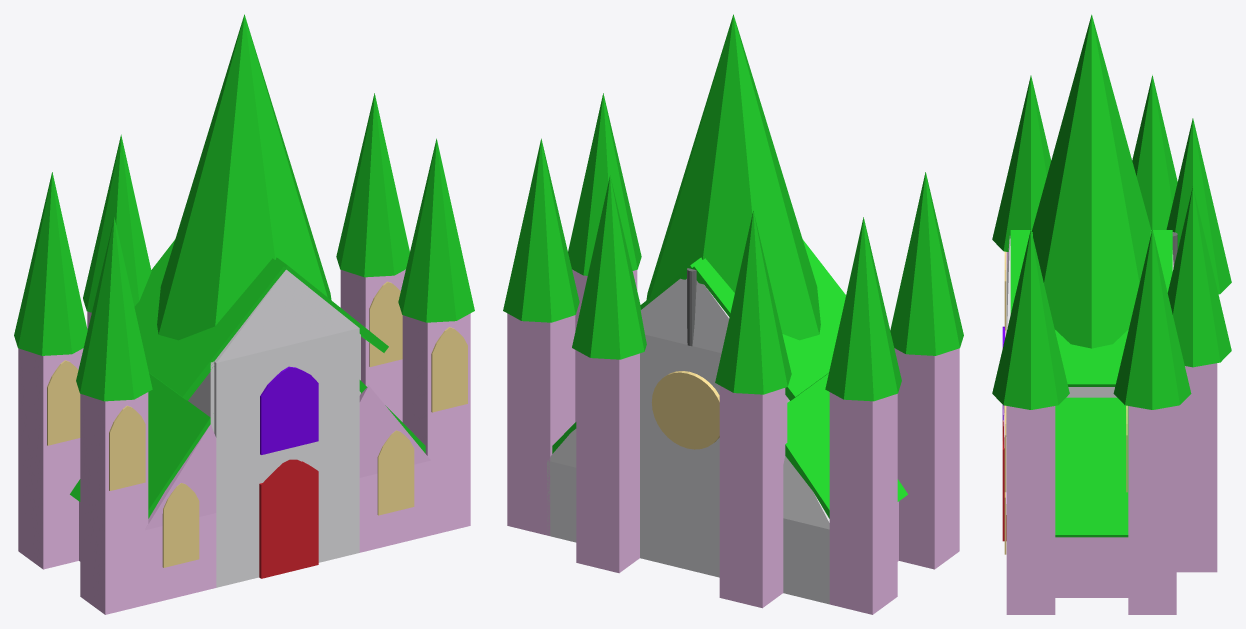
The model's file is Church_Gothic.fbx.
The picture shows the model from 3 angles, left to right: view 1: azimuth 30°, elevation 25°; view 2: azimuth 150°, elevation 25°; view 3: azimuth 270°, elevation 25°; orthographic projection. The views are drawn at different scales.
Visible parts, largest first — view 1: Church_Gothic; view 2: Church_Gothic; view 3: Church_Gothic.
Boxes of the visible parts, x1,y1,x2,y2 form: Church_Gothic: (14, 14, 474, 614); Church_Gothic: (503, 14, 963, 614); Church_Gothic: (992, 14, 1231, 614).
Size of the model in its own units: 10.92 by 14 by 5.92.
